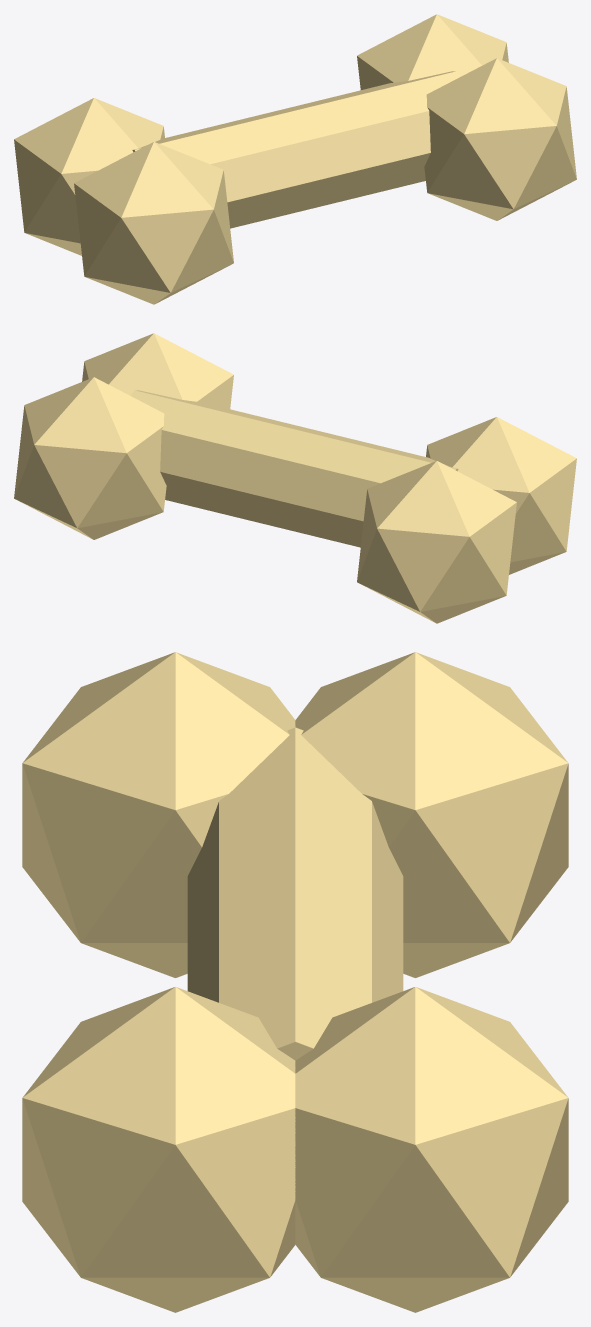
File: bone.glb
3 renders of one model, top to bottom at view 1: azimuth 30°, elevation 25°; view 2: azimuth 150°, elevation 25°; view 3: azimuth 270°, elevation 25°, orthographic. The views are drawn at different scales.
Visible parts, largest first — view 1: knochen; view 2: knochen; view 3: knochen.
Part boxes in pixels (x1,y1,x2,y2): knochen: (14, 14, 576, 304); knochen: (14, 333, 576, 623); knochen: (22, 652, 568, 1312).
Bounding box in the file's own units: 0.9283 × 0.3 × 0.4552.
